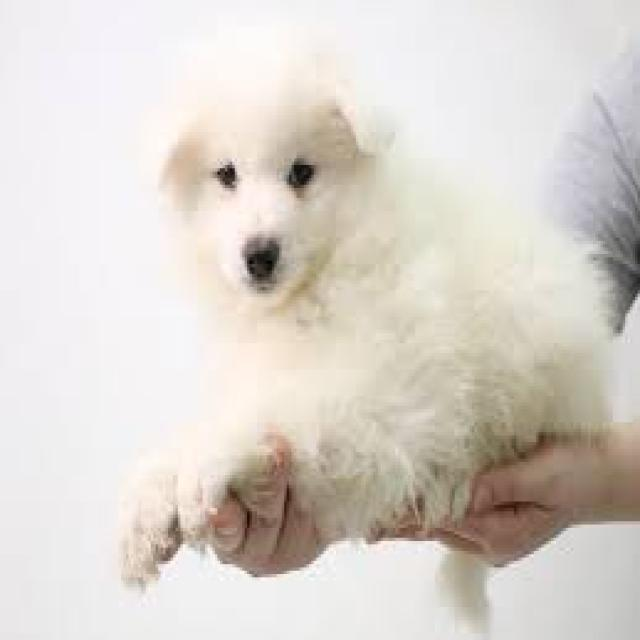dogs: (114, 41, 624, 635)
